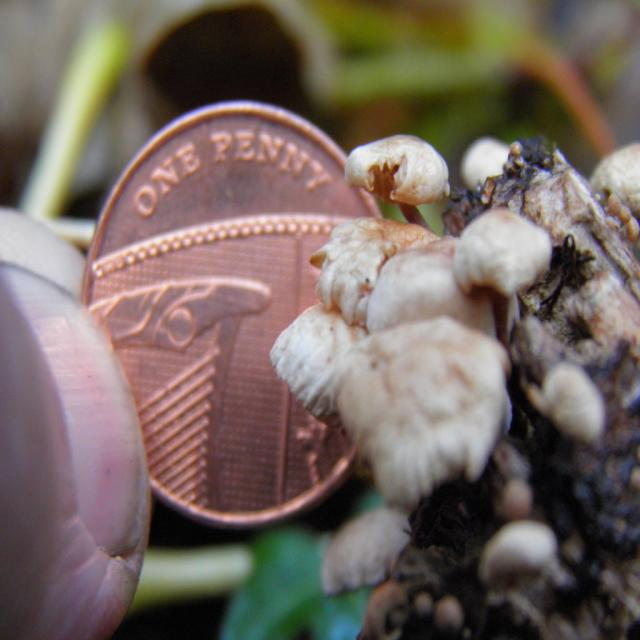Coin: (76, 97, 393, 528)
